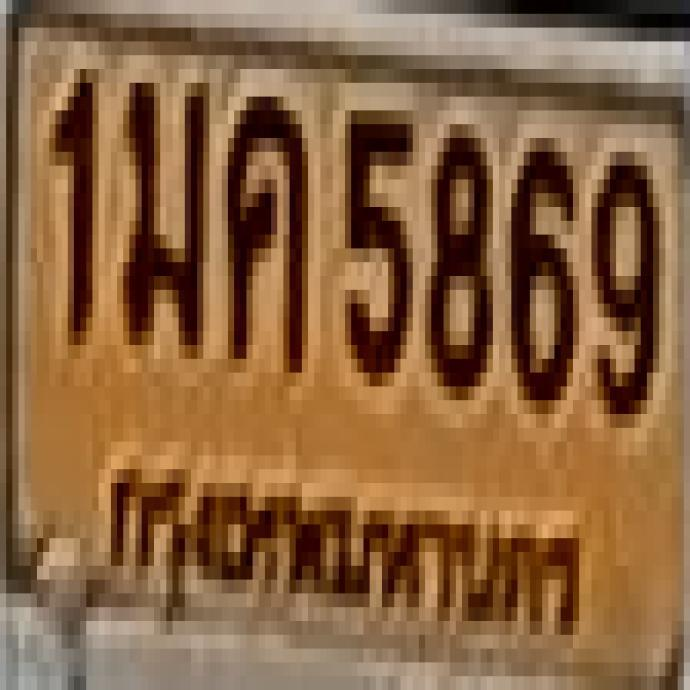1: (47, 61, 90, 332)
5: (340, 101, 408, 372)
6: (505, 128, 570, 399)
8: (423, 118, 486, 386)
9: (588, 141, 653, 412)
A04: (223, 85, 302, 358)
A33: (117, 72, 203, 339)
BKK: (91, 434, 591, 647)
